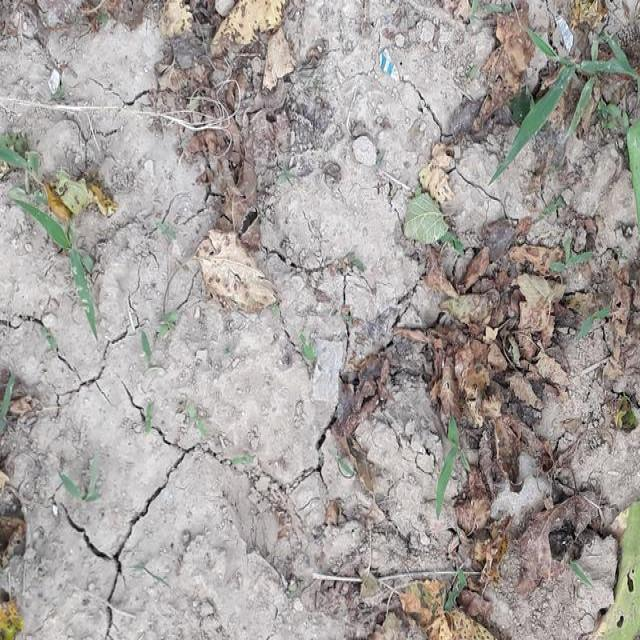weed: (9, 200, 103, 343), (524, 36, 640, 135), (426, 415, 464, 516), (0, 147, 49, 193), (67, 466, 98, 526), (288, 331, 319, 367), (141, 341, 164, 388)
